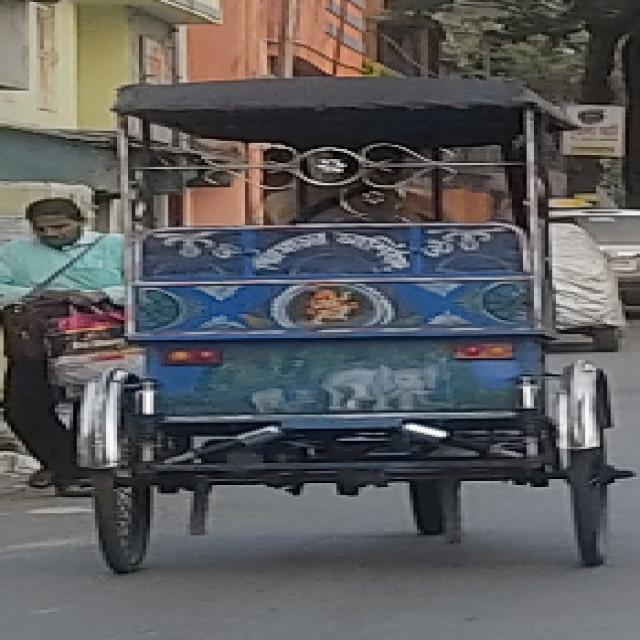rickshaw: (59, 66, 622, 598)
